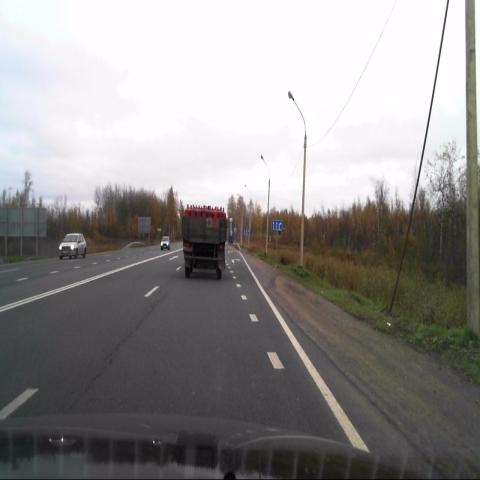5_15_1: (271, 219, 282, 230)
